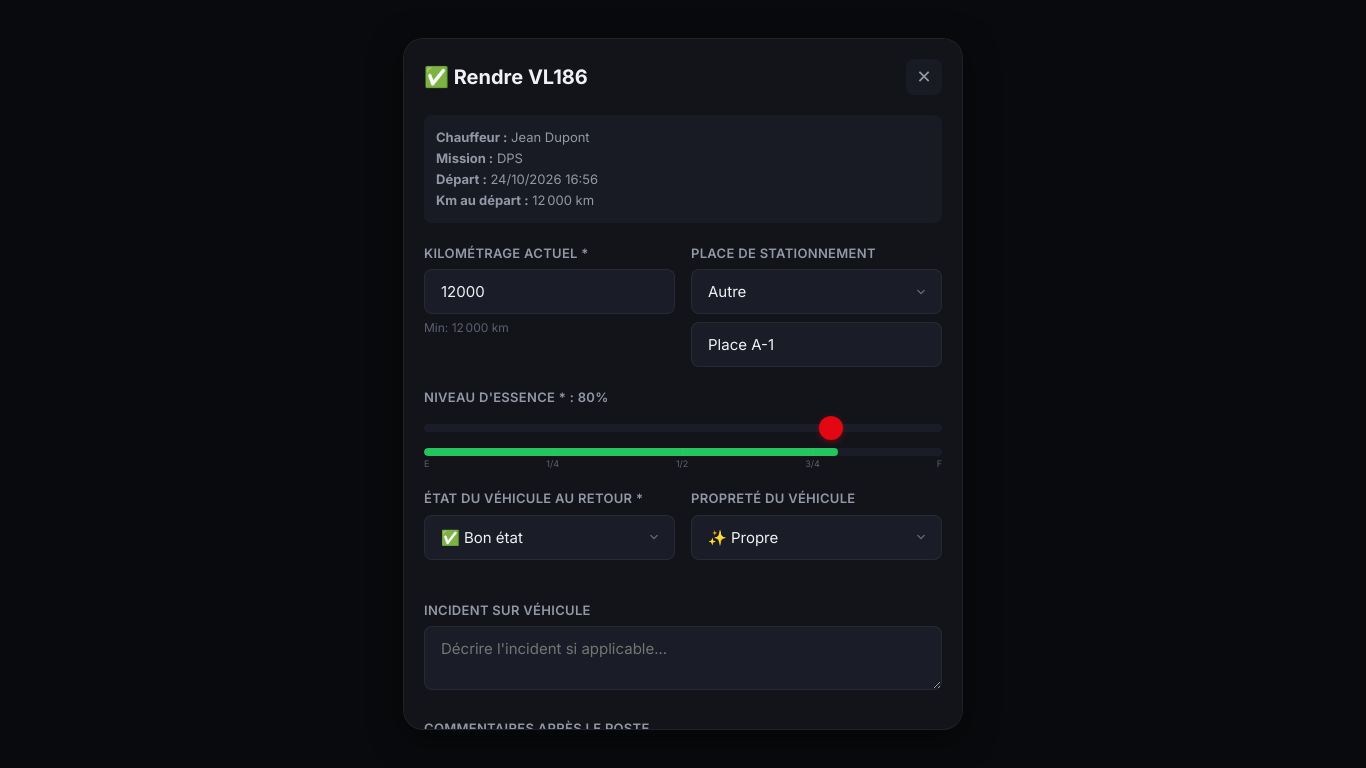
Scenario: CheckInModal › contrôle de plausibilité du kilométrage › « Corriger » ferme la modale sans envoyer de requête
Replace the text in the number field labelled "Kilométrage actuel *" with "12400" at (550, 292), box x1=424 y1=269 x2=675 y2=314
(page scrolled)
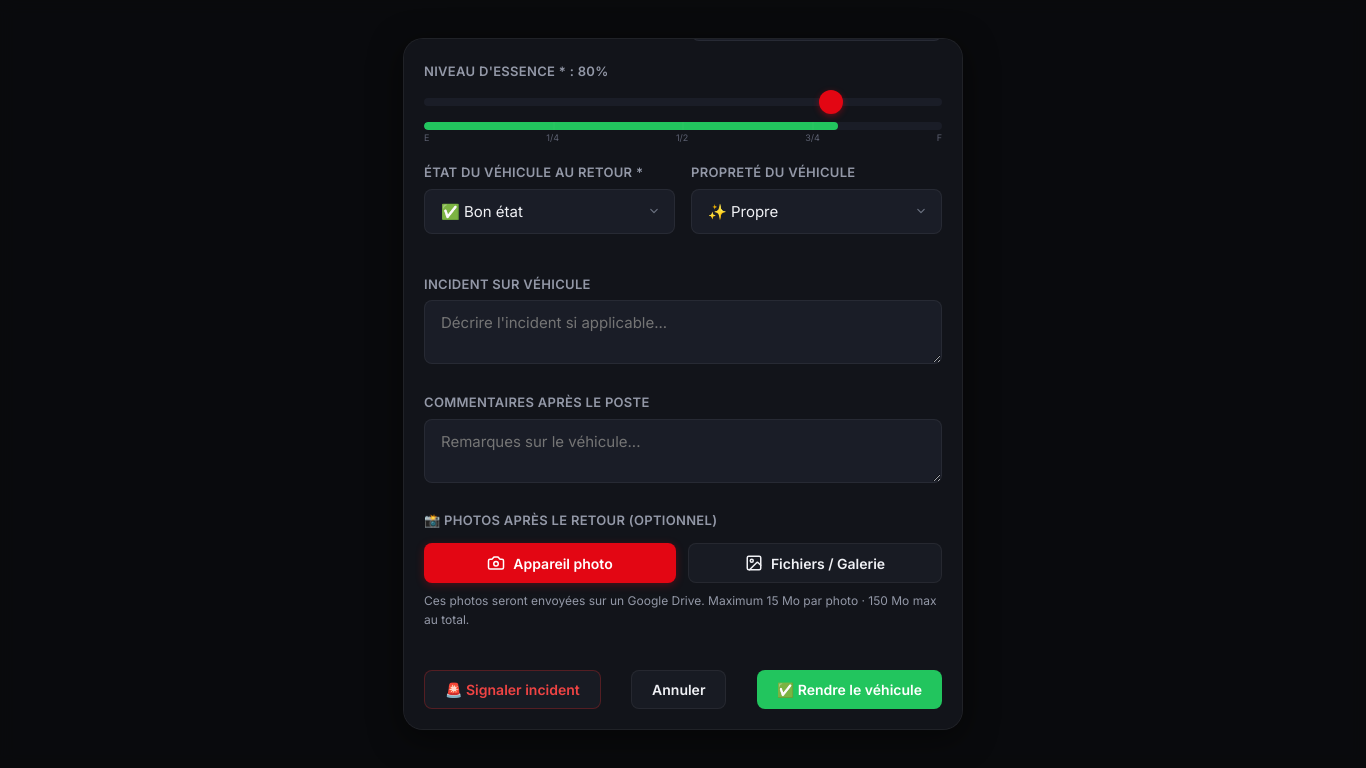
Click the button "✅ Rendre le véhicule" at (849, 689), box x1=757 y1=670 x2=942 y2=708
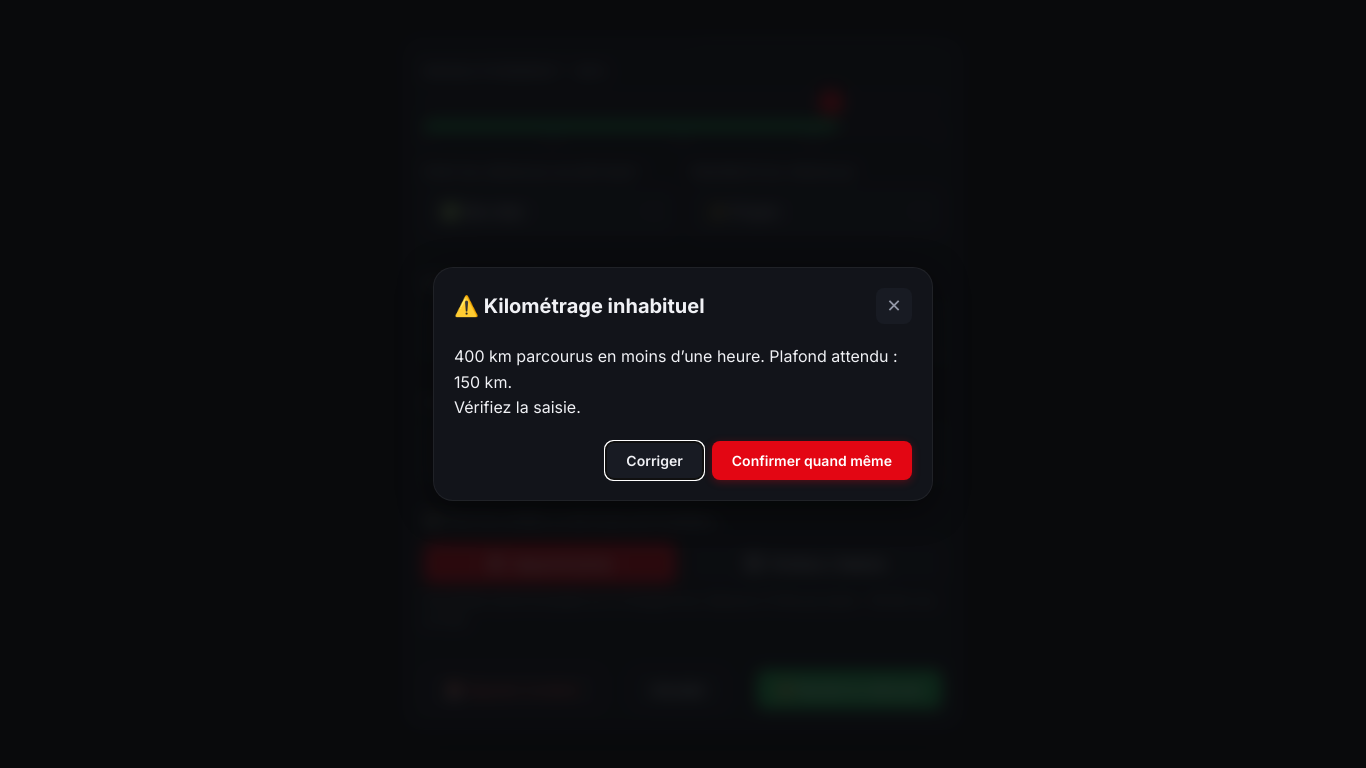
Result: the heading "⚠️ Kilométrage inhabituel" is shown at x1=454 y1=290 x2=705 y2=322
Click the button "Corriger" at (655, 460), box x1=605 y1=441 x2=704 y2=480
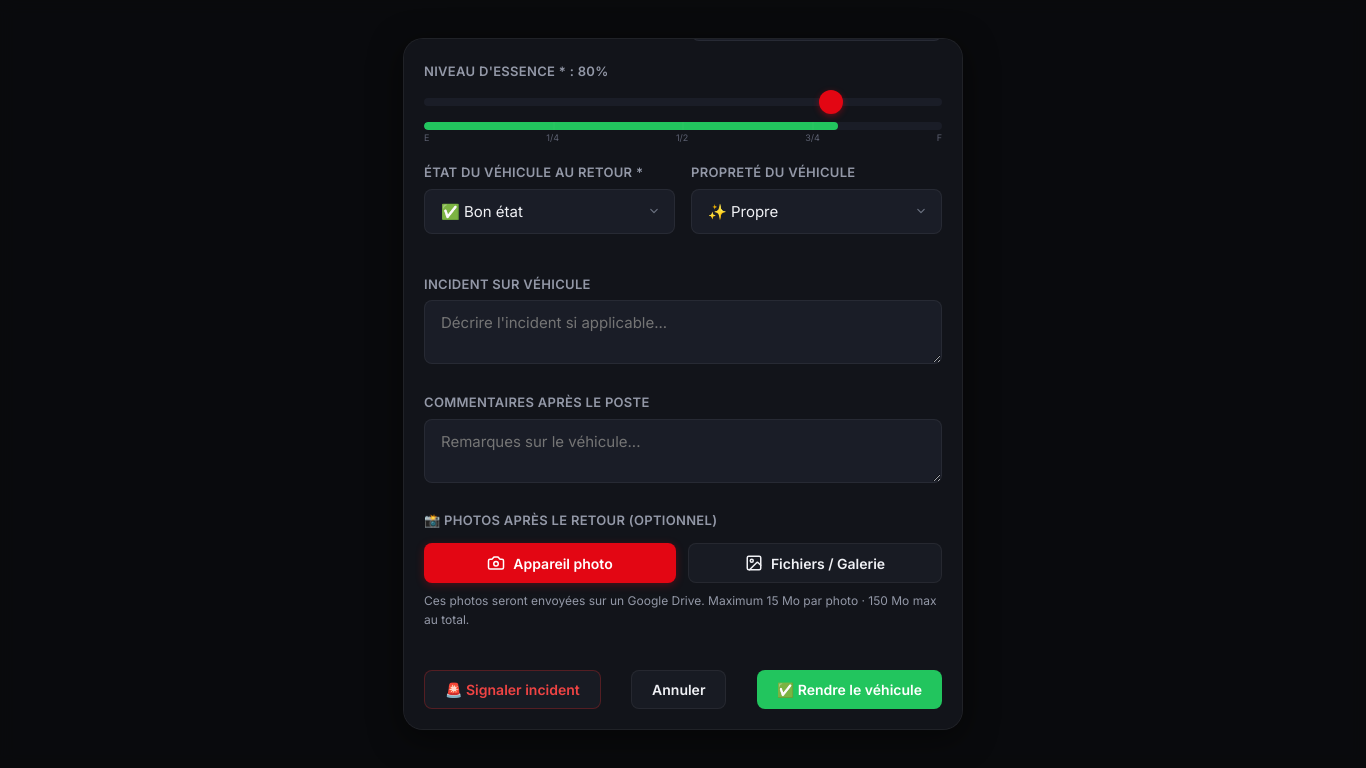
Result: the heading "⚠️ Kilométrage inhabituel" is gone
